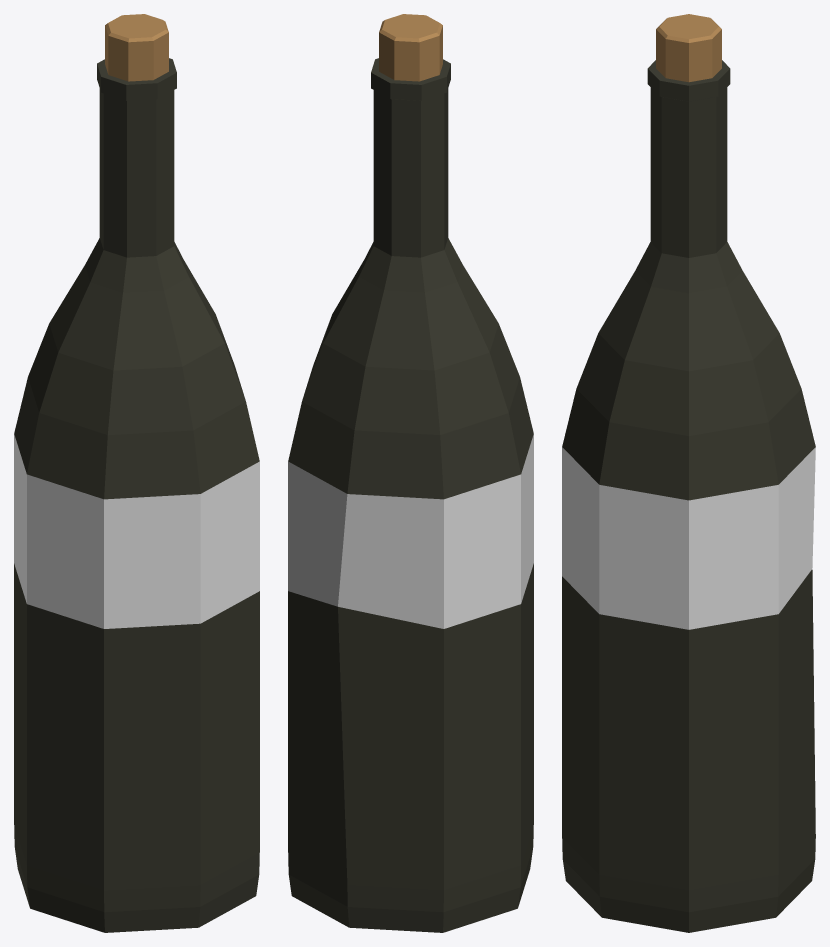
Rendered from bottleofwine.fbx.
3 views of the same model, side by side, from view 1: azimuth 30°, elevation 25°; view 2: azimuth 150°, elevation 25°; view 3: azimuth 270°, elevation 25° (orthographic).
Visible parts, largest first — view 1: Circle.004; view 2: Circle.004; view 3: Circle.004.
Boxes of the visible parts, box(x1,y1,x2,y2) form: Circle.004: box(14, 14, 259, 932); Circle.004: box(288, 14, 533, 932); Circle.004: box(562, 14, 815, 932).
Size of the model in its own units: 244 by 906 by 244.
